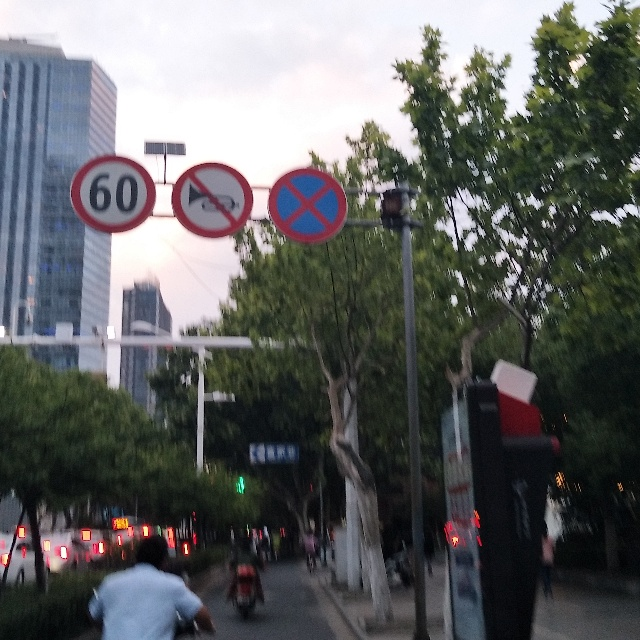nohonk: (181, 169, 245, 232)
stop: (279, 173, 341, 240)
